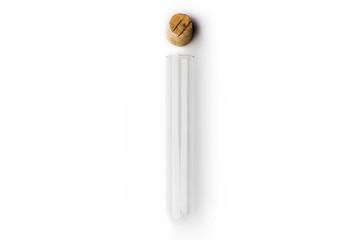Test tube: (153, 36, 199, 229)
